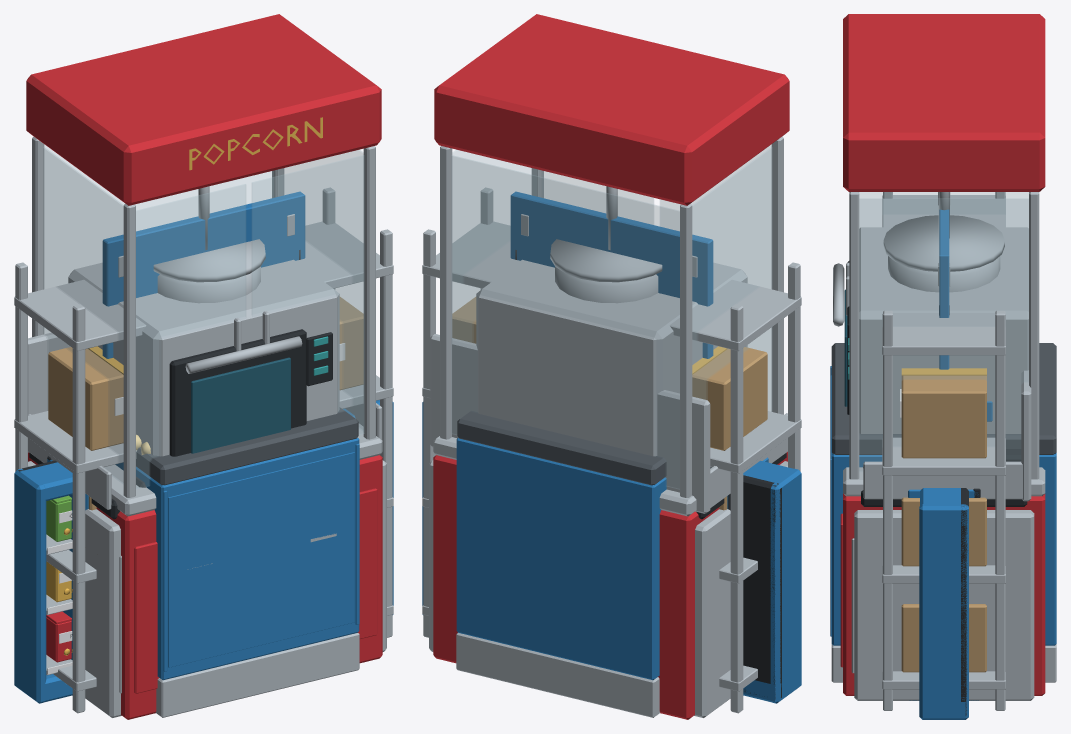
Rendered from theater-props.glb.
3 renders of one model, left to right at view 1: azimuth 30°, elevation 25°; view 2: azimuth 150°, elevation 25°; view 3: azimuth 270°, elevation 25°, orthographic.
Visible parts, largest first — view 1: popcorn_popper__Prop_red, popcorn_popper__Prop_glass, counter_blue__Prop_blue, storage_rack__Prop_metal, turbo_oven__Prop_metal, popcorn_popper__Prop_metal, grill__Prop_metal, stall_partition__Prop_blue, candy_display__Prop_blue, counter_blue__Prop_metal, turbo_oven__Prop_screen, storage_rack__Prop_cardboard (+9 smaller); view 2: popcorn_popper__Prop_red, popcorn_popper__Prop_glass, counter_blue__Prop_blue, turbo_oven__Prop_metal, storage_rack__Prop_metal, popcorn_popper__Prop_metal, grill__Prop_metal, fryer__Prop_metal, candy_display__Prop_blue, counter_blue__Prop_metal, stall_partition__Prop_blue, counter_blue__Prop_stone (+3 smaller); view 3: popcorn_popper__Prop_red, popcorn_popper__Prop_glass, grill__Prop_metal, storage_rack__Prop_metal, turbo_oven__Prop_metal, popcorn_popper__Prop_metal, storage_rack__Prop_cardboard, candy_display__Prop_blue, counter_blue__Prop_blue, counter_blue__Prop_stone, stall_partition__Prop_blue, candy_display__Prop_black (+4 smaller).
Part boxes in pixels (x1,y1,x2,y2): popcorn_popper__Prop_red: (26,14,382,719); popcorn_popper__Prop_glass: (43,145,364,488); counter_blue__Prop_blue: (115,438,359,680); storage_rack__Prop_metal: (14,187,393,713); turbo_oven__Prop_metal: (68,259,339,456); popcorn_popper__Prop_metal: (32,136,382,569); grill__Prop_metal: (28,332,386,717); stall_partition__Prop_blue: (102,191,305,358); candy_display__Prop_blue: (14,400,393,703); counter_blue__Prop_metal: (155,633,359,717); turbo_oven__Prop_screen: (191,357,290,453); storage_rack__Prop_cardboard: (48,297,363,510); popcorn_popper__Prop_red: (433,14,789,719); popcorn_popper__Prop_glass: (451,145,772,489); counter_blue__Prop_blue: (456,438,666,680); turbo_oven__Prop_metal: (476,259,747,456); storage_rack__Prop_metal: (422,187,801,713); popcorn_popper__Prop_metal: (433,136,783,516); grill__Prop_metal: (429,334,787,717); fryer__Prop_metal: (485,330,647,454); candy_display__Prop_blue: (422,402,801,703); counter_blue__Prop_metal: (456,633,660,717); stall_partition__Prop_blue: (510,191,713,358); counter_blue__Prop_stone: (457,410,666,485); popcorn_popper__Prop_red: (840,14,1045,695); popcorn_popper__Prop_glass: (859,192,1028,471); grill__Prop_metal: (851,370,1034,700); storage_rack__Prop_metal: (882,192,1005,710); turbo_oven__Prop_metal: (833,227,1028,433); popcorn_popper__Prop_metal: (843,192,1045,496); storage_rack__Prop_cardboard: (901,375,986,672); candy_display__Prop_blue: (919,488,968,719); counter_blue__Prop_blue: (830,366,1056,645); counter_blue__Prop_stone: (831,343,1056,454); stall_partition__Prop_blue: (939,209,949,369); candy_display__Prop_black: (961,488,968,715).
Bounding box in the file's own units: 1.8 × 2.77 × 1.01.
